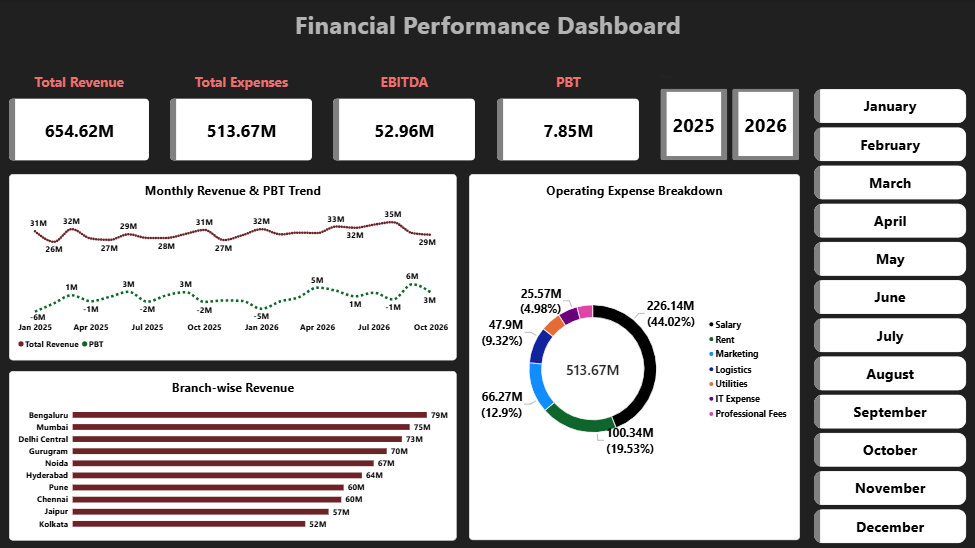

What the dashboard file says about the page in this screenshot:
{"tool":"powerbi","page":{"name":"Finance overview","canvas":[1920,1080],"ordinal":0},"visuals":[{"type":"cardVisual","title":"Total Revenue","fields":{"Data":["transactions.Total Revenue"]},"box":[19.8,143.3,275.5,174.1],"z":0},{"type":"cardVisual","title":"Total Expenses","fields":{"Data":["transactions.Total Expenses"]},"box":[336.1,143.3,279.9,174.1],"z":1000},{"type":"cardVisual","title":"EBITDA","fields":{"Data":["transactions.EBITDA"]},"box":[656.8,143.3,279.9,174.1],"z":2000},{"type":"cardVisual","title":"PBT","fields":{"Data":["transactions.PBT"]},"box":[977.5,143.3,279.9,174.1],"z":3000},{"type":"lineChart","title":"Monthly Revenue & PBT Trend","fields":{"Category":["transactions.transaction_date.Variation.Date Hierarchy.Year","transactions.transaction_date.Variation.Date Hierarchy.Month"],"Y":["transactions.Total Revenue","transactions.PBT"]},"box":[19.8,343.8,879.4,365.9],"z":4000},{"type":"clusteredBarChart","title":"Branch-wise Revenue","fields":{"Category":["branches.branch_name"],"Y":["transactions.Total Revenue"]},"box":[19.8,729.6,879.4,332.8],"z":5000},{"type":"donutChart","title":"Operating Expense Breakdown","fields":{"Category":["transactions.account_code"],"Y":["transactions.Total Expenses"]},"box":[923.5,343.8,650.2,718.5],"z":6000},{"type":"advancedSlicerVisual","fields":{"Values":["transactions.transaction_date.Variation.Date Hierarchy.Month"]},"box":[1600.2,176.3,299.8,903.7],"z":7000},{"type":"advancedSlicerVisual","fields":{"Values":["transactions.transaction_date.Variation.Date Hierarchy.Year"]},"box":[1298.2,143.3,275.5,174.1],"z":8000},{"type":"textbox","title":"Financial Performance Dashboard","box":[347.3,17.6,1225.5,101.4],"z":9000}]}

Visuals, with their boxes in screenshot pixels (x1, y1, x2, y2), scaled from the page's 1920x1080 canvas onto the 975x548 screenshot:
"Total Revenue" cardVisual: box=[10, 73, 150, 161]
"Total Expenses" cardVisual: box=[171, 73, 313, 161]
"EBITDA" cardVisual: box=[334, 73, 476, 161]
"PBT" cardVisual: box=[496, 73, 639, 161]
"Monthly Revenue & PBT Trend" lineChart: box=[10, 174, 457, 360]
"Branch-wise Revenue" clusteredBarChart: box=[10, 370, 457, 539]
"Operating Expense Breakdown" donutChart: box=[469, 174, 799, 539]
advancedSlicerVisual - transactions.transaction_date.Variation.Date Hierarchy.Month: box=[813, 89, 965, 547]
advancedSlicerVisual - transactions.transaction_date.Variation.Date Hierarchy.Year: box=[659, 73, 799, 161]
"Financial Performance Dashboard" textbox: box=[176, 9, 799, 60]
